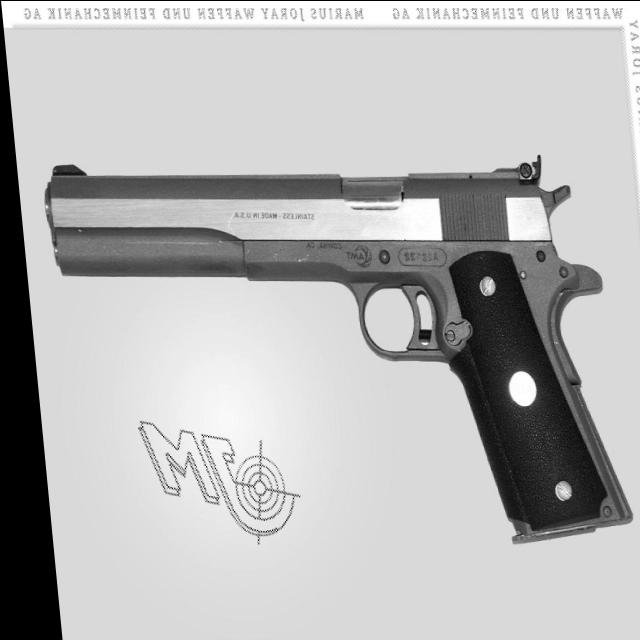handgun: (37, 154, 625, 544)
